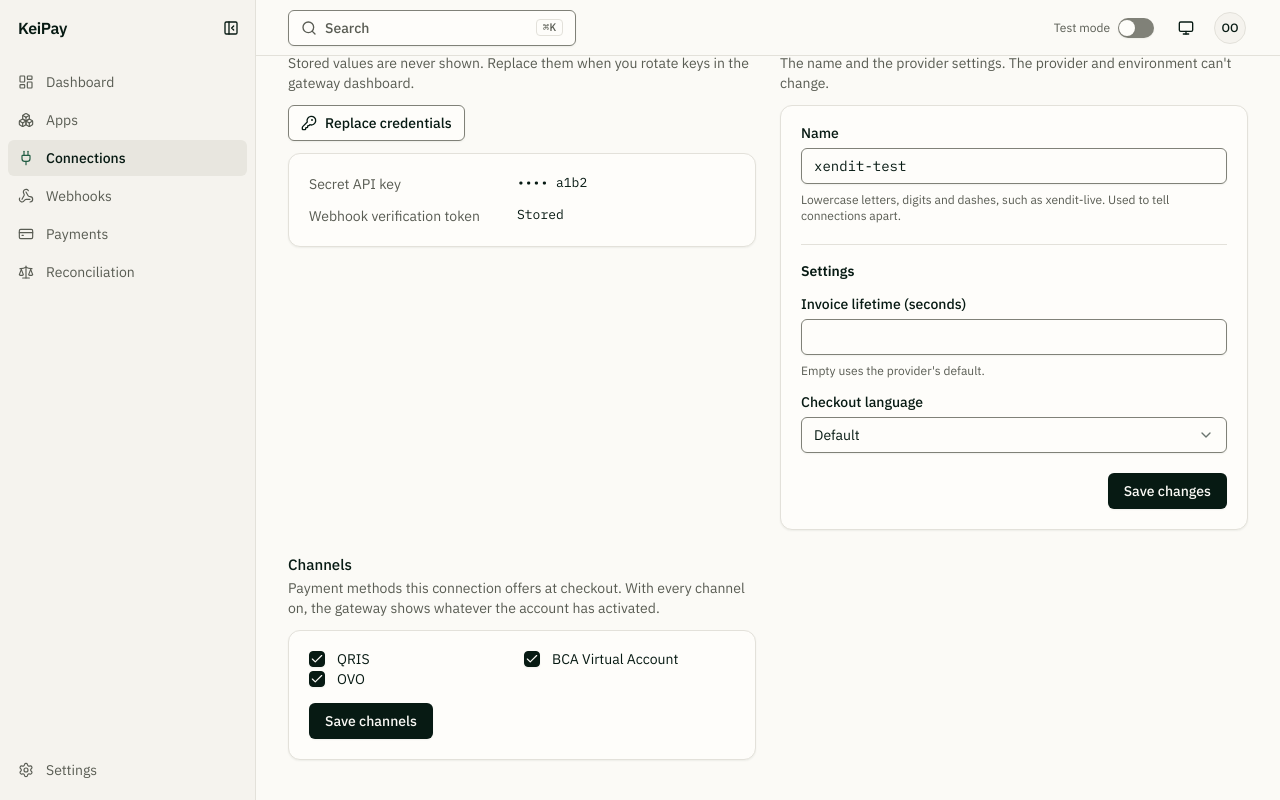
Test case: Connection detail › saves channels
(page scrolled)
Click the checkbox named "QRIS" next to "QRIS": click(317, 659) [309,651,325,667]
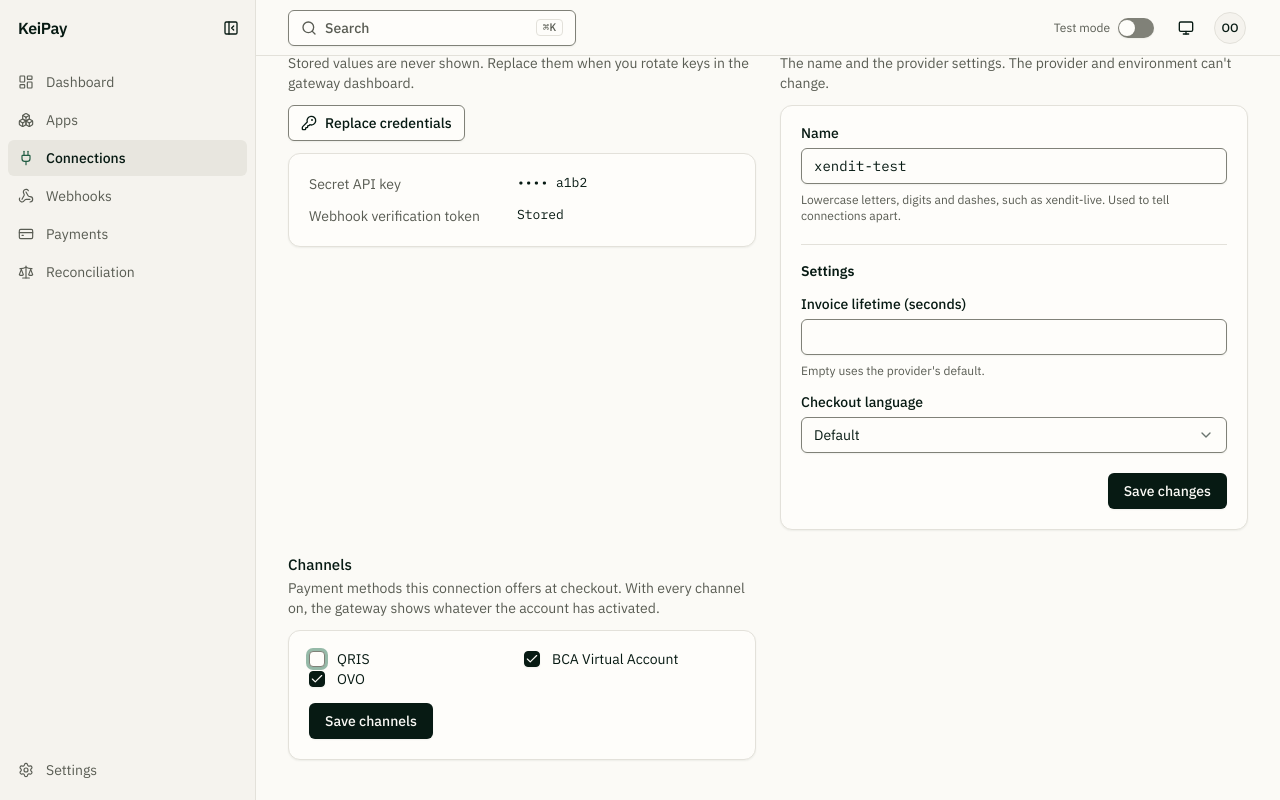
Click the checkbox named "BCA Virtual Account" next to "BCA Virtual Account": click(532, 659) [524,651,540,667]
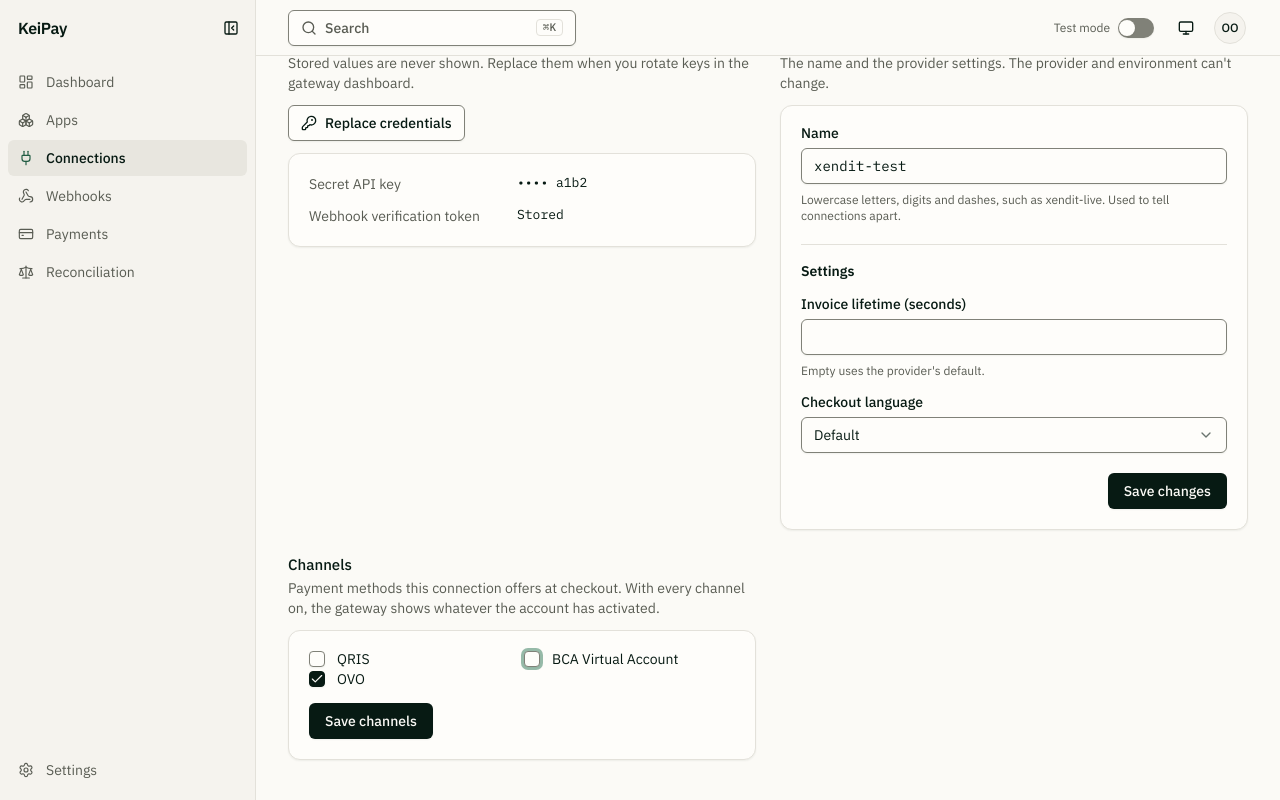
Click the checkbox named "OVO" next to "OVO": click(317, 679) [309,671,325,687]
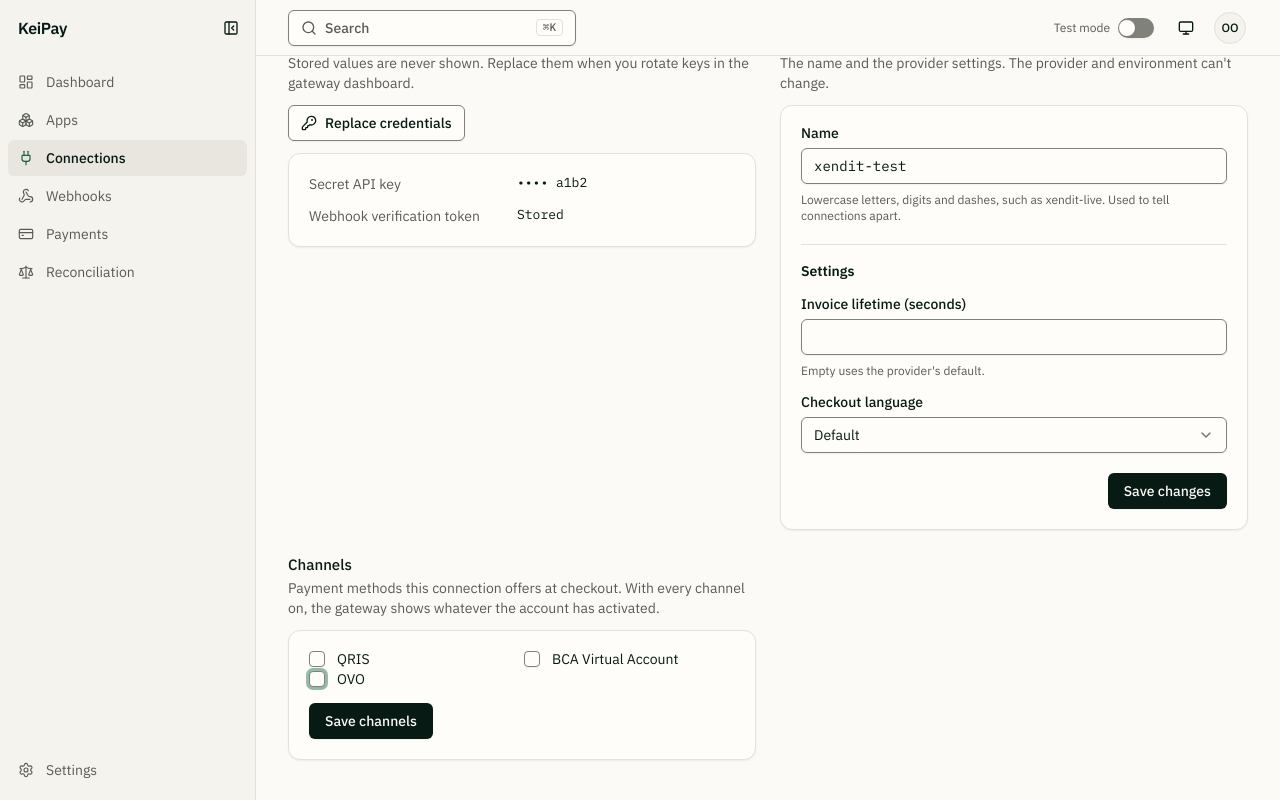
Click the button "Save channels": click(371, 721) [309,703,433,739]
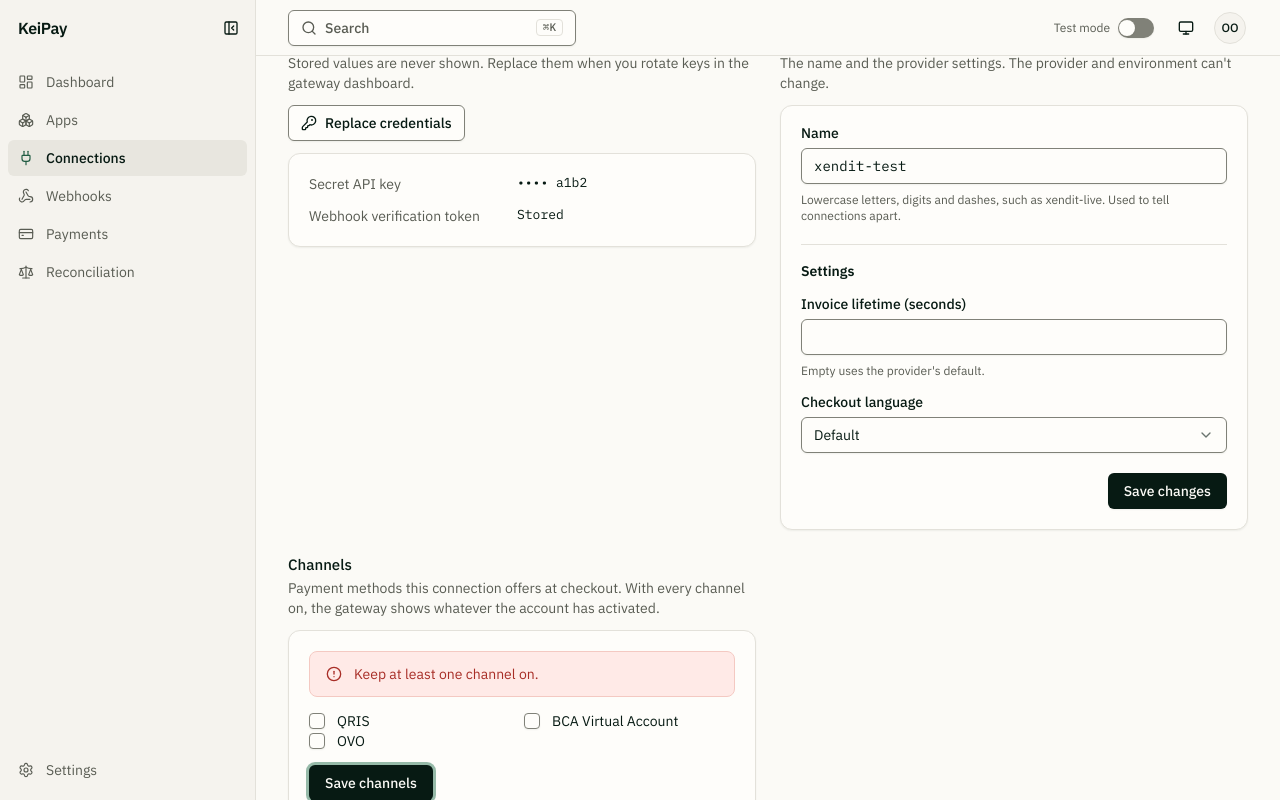
Result: the text "Keep at least one channel on." is shown at [354,665,538,683]
Click the checkbox named "OVO" next to "OVO": click(317, 741) [309,733,325,749]
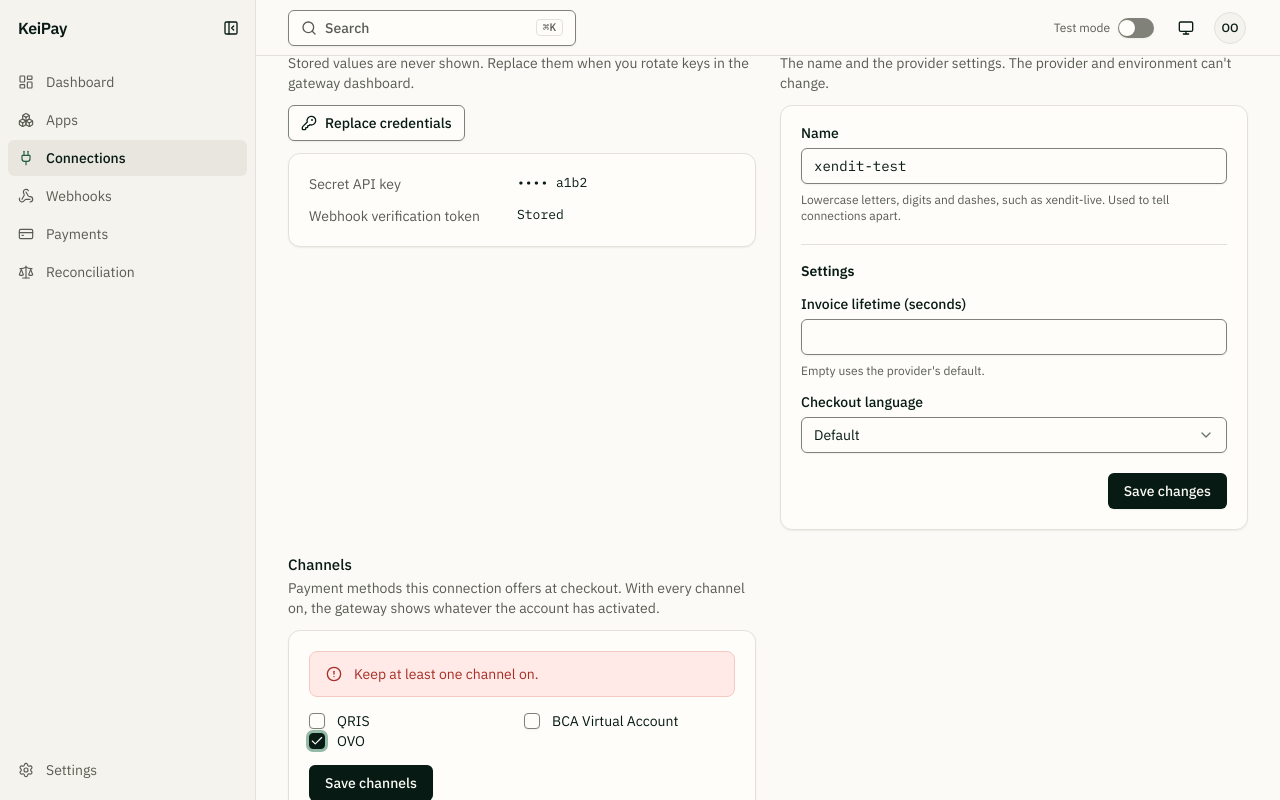
Click the button "Save channels": click(371, 783) [309,765,433,799]
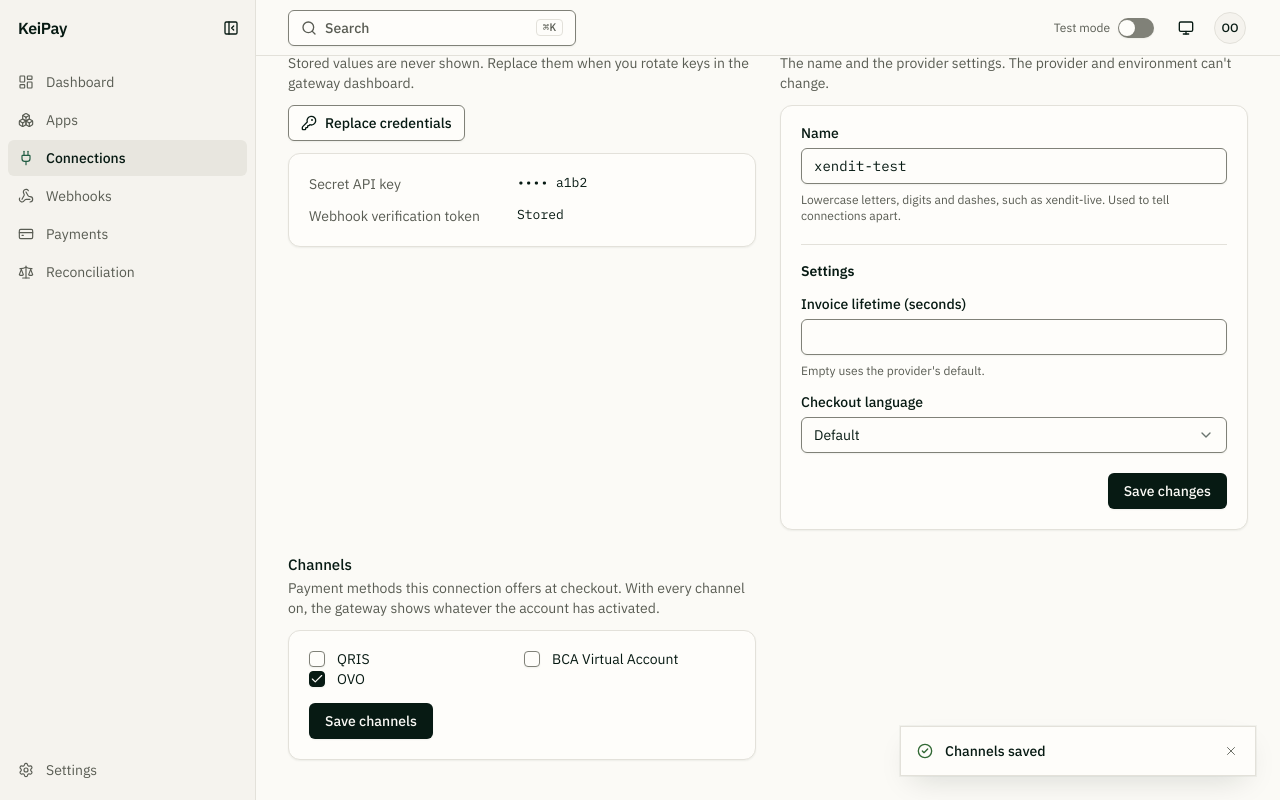
Result: the text "Channels saved" is shown at [945,741,1046,761]
